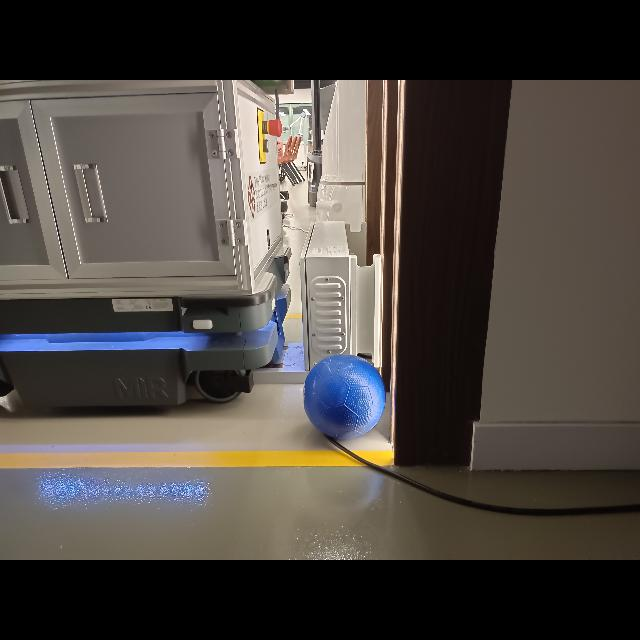B: (298, 352, 390, 441)
